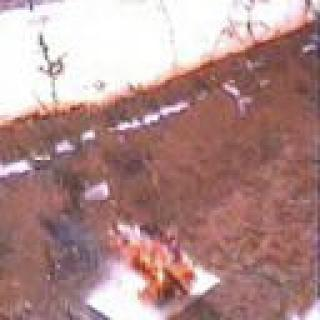fire: (112, 232, 197, 309)
